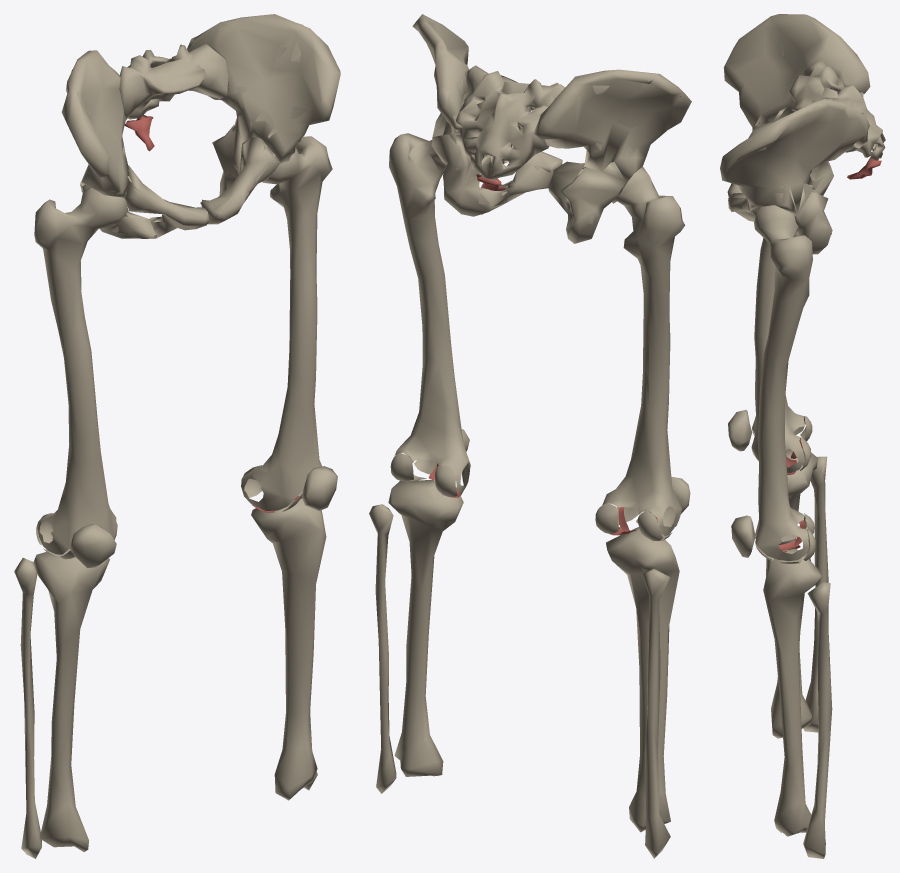
The model's file is adult_female.skeletal.LOD3.glb.
3 views of the same model, side by side, from view 1: azimuth 30°, elevation 25°; view 2: azimuth 150°, elevation 25°; view 3: azimuth 270°, elevation 25° (orthographic). The views are drawn at different scales.
Parts seen in each view (by area): view 1: ADULT.FEMALE.SKELETAL.FEMUR.R, ADULT.FEMALE.SKELETAL.FEMUR.L, ADULT.FEMALE.SKELETAL.ILIUM_COMPACT_BONE.L, ADULT.FEMALE.SKELETAL.TIBIA.L, ADULT.FEMALE.SKELETAL.TIBIA.R, ADULT.FEMALE.SKELETAL.ILIUM_COMPACT_BONE.R, ADULT.FEMALE.SKELETAL.SACRUM, ADULT.FEMALE.SKELETAL.FIBULA.R, ADULT.FEMALE.SKELETAL.PUBIS_COMPACT_BONE.L, ADULT.FEMALE.SKELETAL.PUBIS_COMPACT_BONE.R, ADULT.FEMALE.SKELETAL.PATELLA.R, ADULT.FEMALE.SKELETAL.PATELLA.L (+3 smaller); view 2: ADULT.FEMALE.SKELETAL.FEMUR.R, ADULT.FEMALE.SKELETAL.FEMUR.L, ADULT.FEMALE.SKELETAL.ILIUM_COMPACT_BONE.R, ADULT.FEMALE.SKELETAL.TIBIA.L, ADULT.FEMALE.SKELETAL.SACRUM, ADULT.FEMALE.SKELETAL.TIBIA.R, ADULT.FEMALE.SKELETAL.FIBULA.R, ADULT.FEMALE.SKELETAL.ILIUM_COMPACT_BONE.L, ADULT.FEMALE.SKELETAL.FIBULA.L, ADULT.FEMALE.SKELETAL.ISCHIUM_COMPACT_BONE.L, ADULT.FEMALE.SKELETAL.ISCHIUM_COMPACT_BONE.R, ADULT.FEMALE.SKELETAL.PUBIS_COMPACT_BONE.L (+1 smaller); view 3: ADULT.FEMALE.SKELETAL.FEMUR.L, ADULT.FEMALE.SKELETAL.ILIUM_COMPACT_BONE.L, ADULT.FEMALE.SKELETAL.ILIUM_COMPACT_BONE.R, ADULT.FEMALE.SKELETAL.TIBIA.L, ADULT.FEMALE.SKELETAL.FIBULA.L, ADULT.FEMALE.SKELETAL.FEMUR.R, ADULT.FEMALE.SKELETAL.SACRUM, ADULT.FEMALE.SKELETAL.FIBULA.R, ADULT.FEMALE.SKELETAL.TIBIA.R, ADULT.FEMALE.SKELETAL.ISCHIUM_COMPACT_BONE.L, ADULT.FEMALE.SKELETAL.PATELLA.L, ADULT.FEMALE.SKELETAL.PATELLA.R (+2 smaller).
Boxes of the visible parts, x1=… form: ADULT.FEMALE.SKELETAL.FEMUR.R: x1=34, y1=186, x2=127, y2=554; ADULT.FEMALE.SKELETAL.FEMUR.L: x1=241, y1=136, x2=332, y2=510; ADULT.FEMALE.SKELETAL.ILIUM_COMPACT_BONE.L: x1=187, y1=14, x2=340, y2=163; ADULT.FEMALE.SKELETAL.TIBIA.L: x1=251, y1=494, x2=326, y2=800; ADULT.FEMALE.SKELETAL.TIBIA.R: x1=33, y1=552, x2=109, y2=851; ADULT.FEMALE.SKELETAL.ILIUM_COMPACT_BONE.R: x1=61, y1=50, x2=129, y2=197; ADULT.FEMALE.SKELETAL.SACRUM: x1=119, y1=44, x2=228, y2=120; ADULT.FEMALE.SKELETAL.FIBULA.R: x1=14, y1=558, x2=41, y2=858; ADULT.FEMALE.SKELETAL.PUBIS_COMPACT_BONE.L: x1=200, y1=137, x2=280, y2=224; ADULT.FEMALE.SKELETAL.PUBIS_COMPACT_BONE.R: x1=124, y1=165, x2=209, y2=237; ADULT.FEMALE.SKELETAL.PATELLA.R: x1=69, y1=524, x2=116, y2=567; ADULT.FEMALE.SKELETAL.PATELLA.L: x1=301, y1=466, x2=337, y2=510; ADULT.FEMALE.SKELETAL.FEMUR.R: x1=595, y1=167, x2=685, y2=535; ADULT.FEMALE.SKELETAL.FEMUR.L: x1=389, y1=133, x2=470, y2=494; ADULT.FEMALE.SKELETAL.ILIUM_COMPACT_BONE.R: x1=533, y1=69, x2=691, y2=182; ADULT.FEMALE.SKELETAL.TIBIA.L: x1=388, y1=480, x2=463, y2=776; ADULT.FEMALE.SKELETAL.SACRUM: x1=456, y1=65, x2=564, y2=180; ADULT.FEMALE.SKELETAL.TIBIA.R: x1=606, y1=527, x2=679, y2=832; ADULT.FEMALE.SKELETAL.FIBULA.R: x1=642, y1=569, x2=670, y2=858; ADULT.FEMALE.SKELETAL.ILIUM_COMPACT_BONE.L: x1=412, y1=14, x2=469, y2=136; ADULT.FEMALE.SKELETAL.FIBULA.L: x1=369, y1=504, x2=396, y2=793; ADULT.FEMALE.SKELETAL.ISCHIUM_COMPACT_BONE.L: x1=431, y1=134, x2=507, y2=216; ADULT.FEMALE.SKELETAL.ISCHIUM_COMPACT_BONE.R: x1=560, y1=167, x2=625, y2=243; ADULT.FEMALE.SKELETAL.PUBIS_COMPACT_BONE.L: x1=477, y1=137, x2=562, y2=202; ADULT.FEMALE.SKELETAL.FEMUR.L: x1=754, y1=205, x2=812, y2=561; ADULT.FEMALE.SKELETAL.ILIUM_COMPACT_BONE.L: x1=720, y1=97, x2=869, y2=216; ADULT.FEMALE.SKELETAL.ILIUM_COMPACT_BONE.R: x1=723, y1=14, x2=870, y2=130; ADULT.FEMALE.SKELETAL.TIBIA.L: x1=763, y1=548, x2=821, y2=836; ADULT.FEMALE.SKELETAL.FIBULA.L: x1=803, y1=582, x2=832, y2=858; ADULT.FEMALE.SKELETAL.FEMUR.R: x1=751, y1=238, x2=805, y2=472; ADULT.FEMALE.SKELETAL.SACRUM: x1=789, y1=60, x2=885, y2=160; ADULT.FEMALE.SKELETAL.FIBULA.R: x1=803, y1=456, x2=828, y2=732; ADULT.FEMALE.SKELETAL.TIBIA.R: x1=771, y1=447, x2=817, y2=738; ADULT.FEMALE.SKELETAL.ISCHIUM_COMPACT_BONE.L: x1=794, y1=187, x2=832, y2=254; ADULT.FEMALE.SKELETAL.PATELLA.L: x1=731, y1=515, x2=755, y2=557; ADULT.FEMALE.SKELETAL.PATELLA.R: x1=728, y1=410, x2=752, y2=451.
Size of the model in its own units: 0.3605 by 0.8994 by 0.1833.
